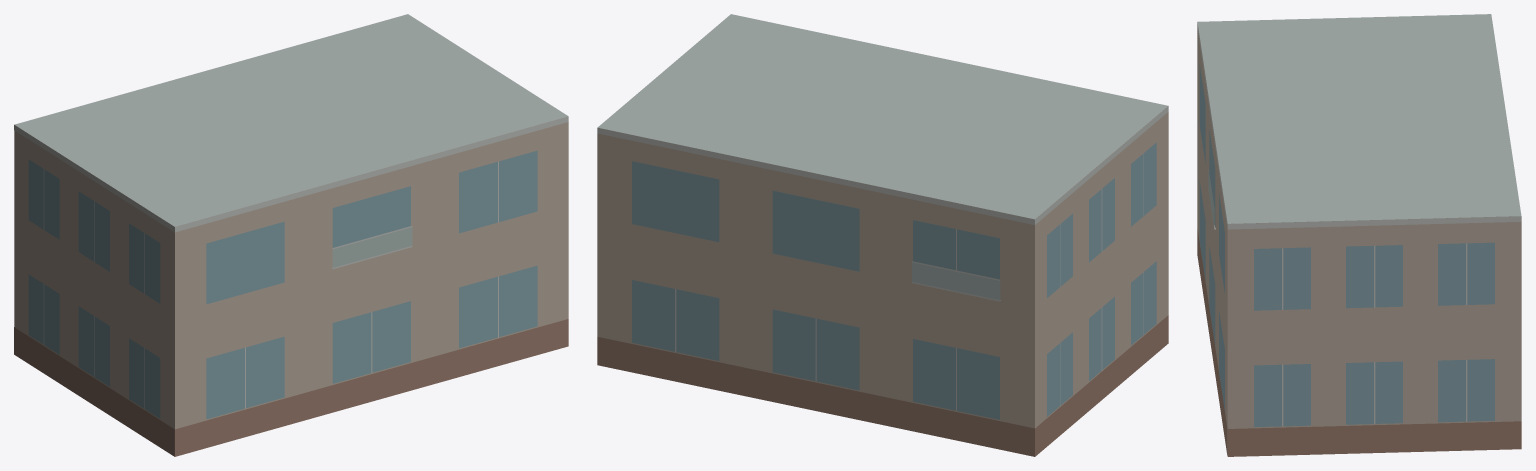
Rendered from survey-upis-32832936.glb.
3 views of the same model, side by side, from view 1: azimuth 30°, elevation 25°; view 2: azimuth 150°, elevation 25°; view 3: azimuth 270°, elevation 25° (orthographic). The views are drawn at different scales.
Parts seen in each view (by area): view 1: survey-upis-32832936.tmp; view 2: survey-upis-32832936.tmp; view 3: survey-upis-32832936.tmp.
Part boxes in pixels (x1=…): survey-upis-32832936.tmp: x1=14, y1=14, x2=568, y2=456; survey-upis-32832936.tmp: x1=597, y1=14, x2=1168, y2=456; survey-upis-32832936.tmp: x1=1197, y1=14, x2=1521, y2=456.
Bounding box in the file's own units: 19.52 × 10.1 × 12.74.
